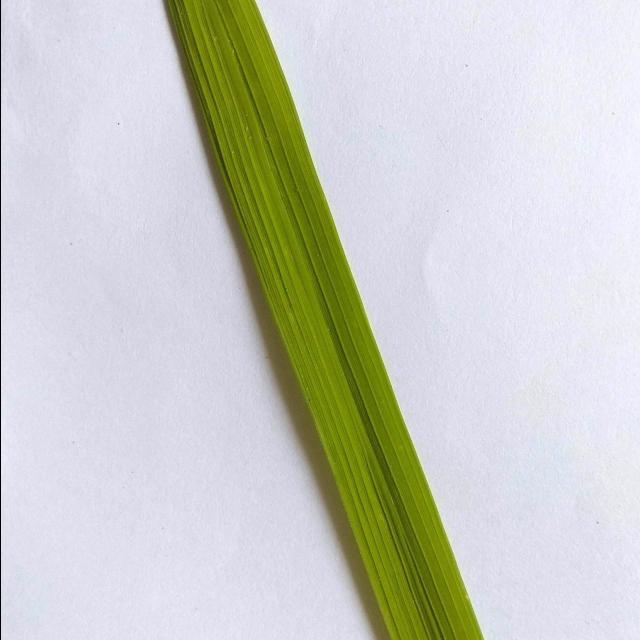healthy: (152, 0, 511, 640)
